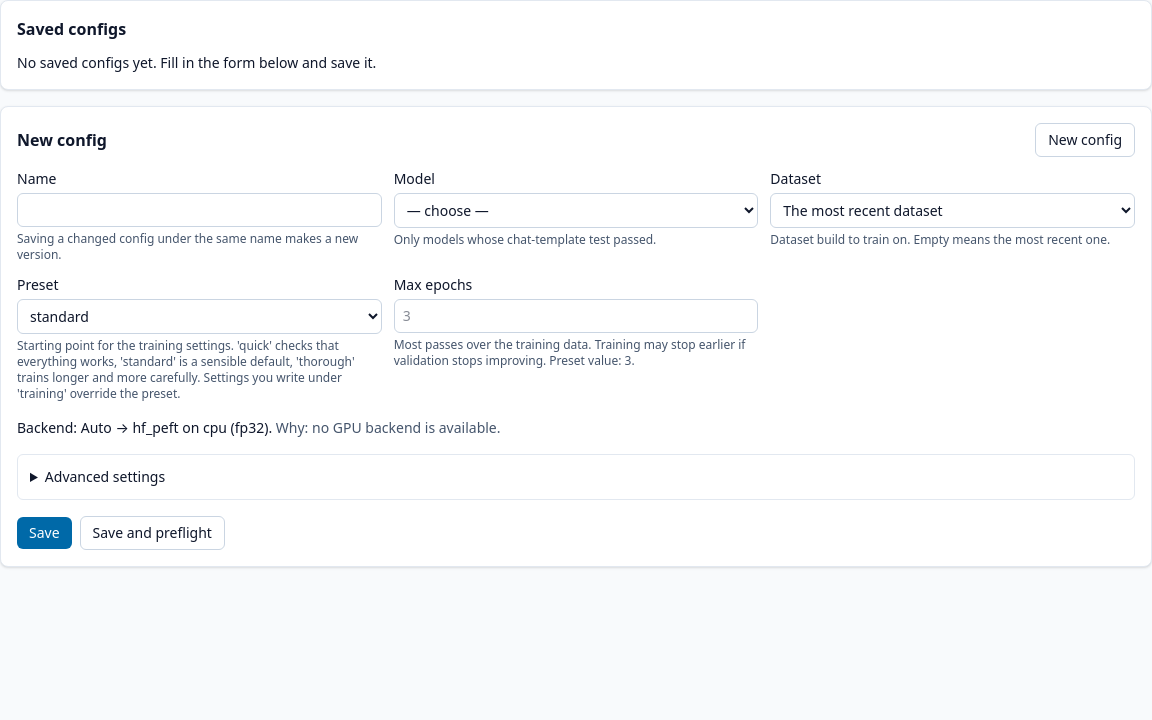
it: Training config › starts in the beginner view and explains the auto-selected backend
Check: the text "Auto → hf_peft on cpu (fp32)" is shown, box left=17, top=418, right=500, bottom=437
Check: the text "Why: no GPU backend is available." is shown, box left=276, top=418, right=500, bottom=437
Select "quick" in the dropdown labelled "Preset": (199, 316) left=17, top=299, right=382, bottom=334
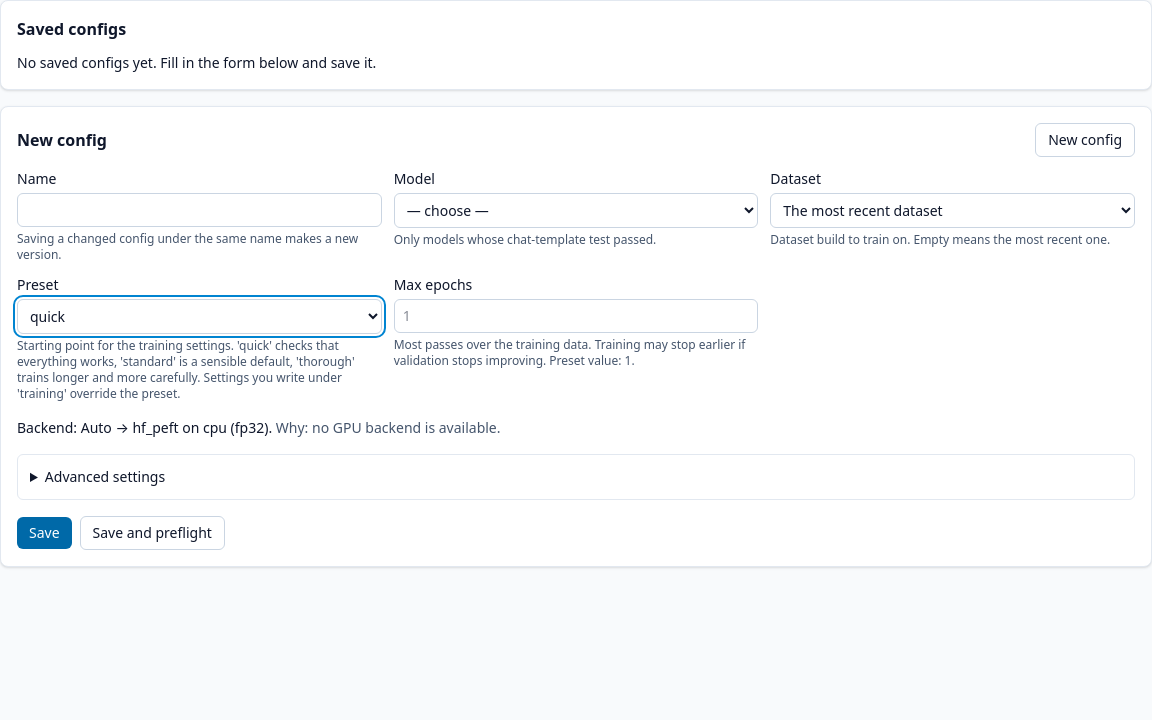
Check: the field labelled "Max epochs" has attribute placeholder="1", box left=394, top=299, right=758, bottom=333
